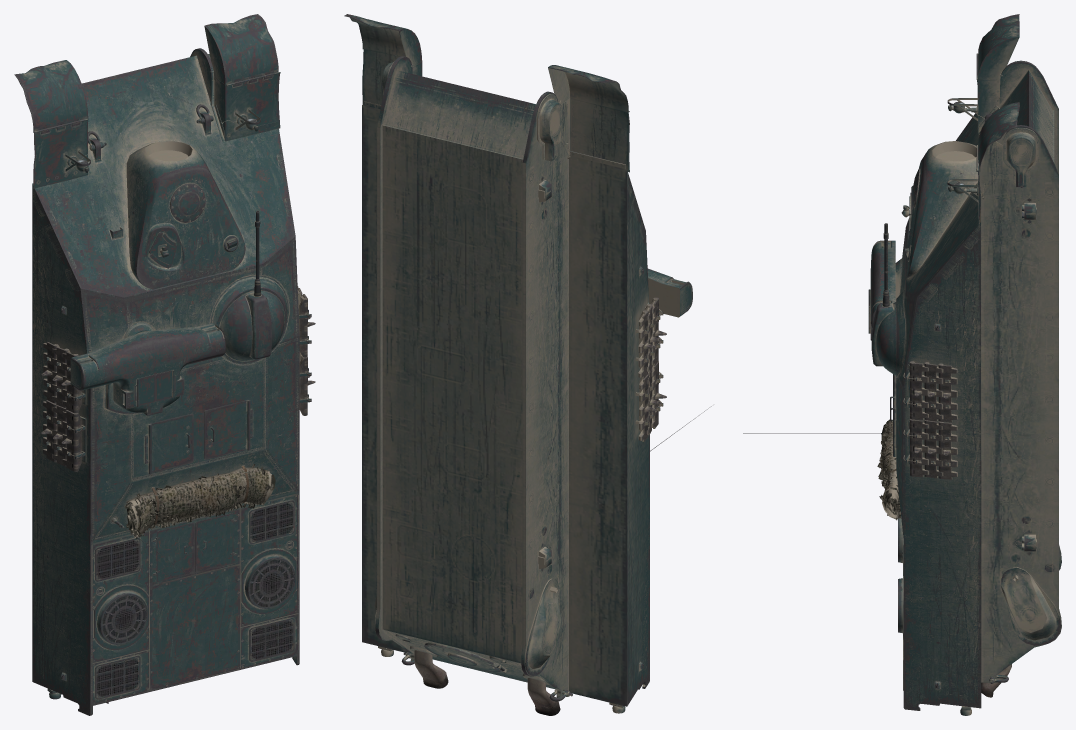
File: Hull.glb
3 renders of one model, left to right at view 1: azimuth 30°, elevation 25°; view 2: azimuth 150°, elevation 25°; view 3: azimuth 270°, elevation 25°, orthographic. The views are drawn at different scales.
Visible parts, largest first — view 1: set_0_group_0; view 2: set_0_group_0; view 3: set_0_group_0.
Part boxes in pixels (bbox=[...]): set_0_group_0: bbox=[14, 14, 315, 715]; set_0_group_0: bbox=[344, 14, 711, 715]; set_0_group_0: bbox=[743, 14, 1061, 715].
Size of the model in its own units: 3.49 by 7.77 by 3.74.
Materials: 1 (1 with a texture image).
